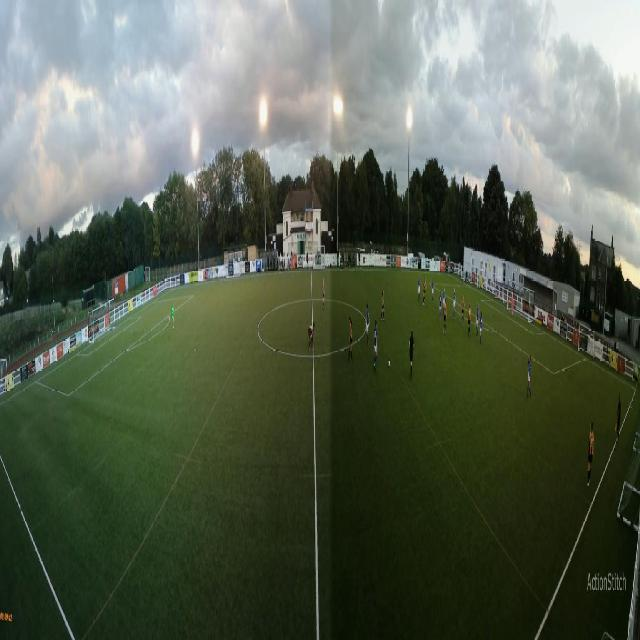ball: (388, 359, 391, 368)
player: (586, 420, 595, 487), (409, 329, 415, 381), (347, 317, 353, 364), (373, 318, 378, 372), (527, 353, 532, 401), (365, 304, 370, 345), (308, 322, 315, 350), (461, 294, 466, 326), (443, 297, 447, 335), (479, 310, 483, 345), (381, 288, 385, 322), (439, 291, 443, 323), (476, 304, 480, 336), (417, 275, 421, 304), (453, 287, 456, 324), (171, 303, 175, 330), (422, 278, 426, 305), (431, 277, 435, 304), (468, 302, 471, 338), (322, 279, 325, 310), (443, 288, 446, 316), (424, 276, 427, 303), (511, 295, 514, 319)
